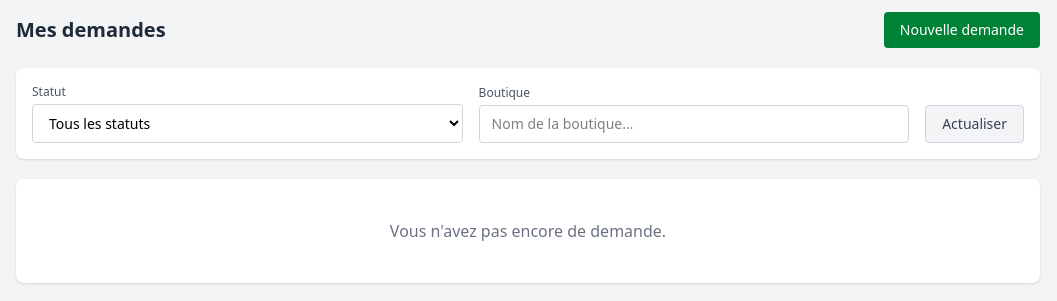
Test: TC-080-ET — états › [ET-03] liste vide avec filtre → message avec libellé français du statut
The width and height of the screenshot is (1057, 301).
Check: the text "Vous n'avez pas encore de demande." is shown, box [16,179,1040,283]
Select "Rejetée" in the dropdown with test id "filter-status" at x=247, y=124, box [32,104,463,143]
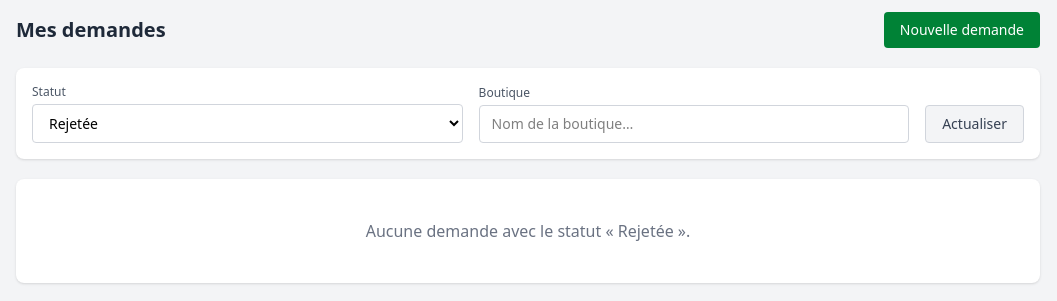
Check: the text with test id "empty-state" shows "Aucune demande avec le statut « Rejetée »", box [366,220,690,242]
